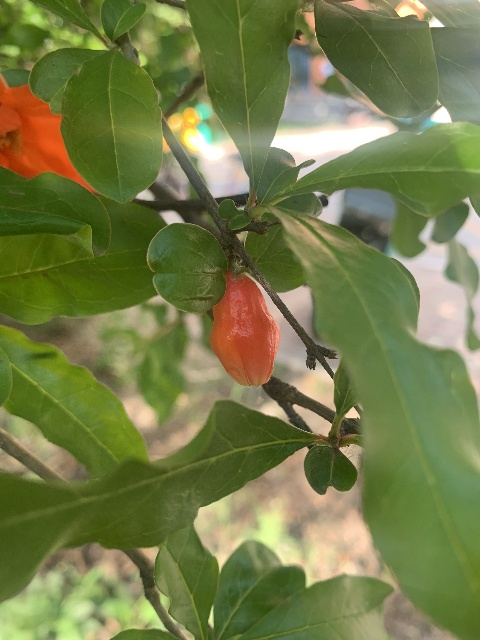bud: (209, 271, 279, 387)
flower: (0, 71, 94, 193)
